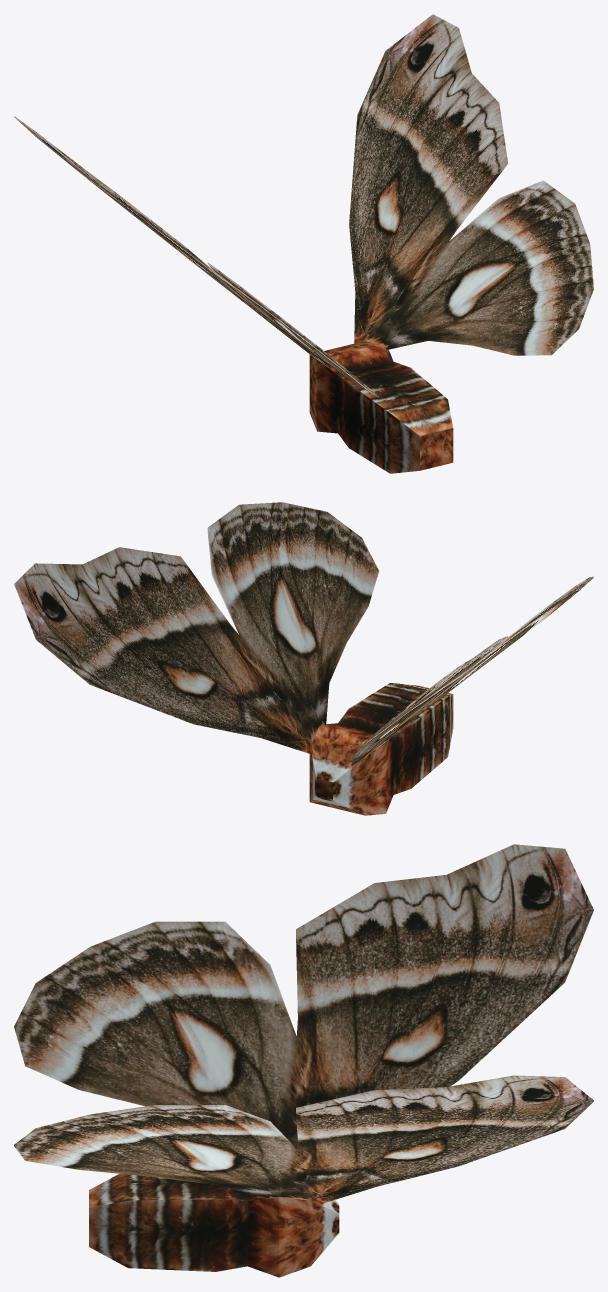
Rendered from moths.fbx.
The picture shows the model from 3 angles, top to bottom: view 1: azimuth 30°, elevation 25°; view 2: azimuth 150°, elevation 25°; view 3: azimuth 270°, elevation 25°; orthographic projection. The views are drawn at different scales.
Parts seen in each view (by area): view 1: Plane; view 2: Plane; view 3: Plane.
Part boxes in pixels (x1,y1,x2,y2): Plane: (14,14,593,473); Plane: (14,502,593,815); Plane: (14,844,593,1277).
Size of the model in its own units: 92.52 by 55.63 by 97.8.
